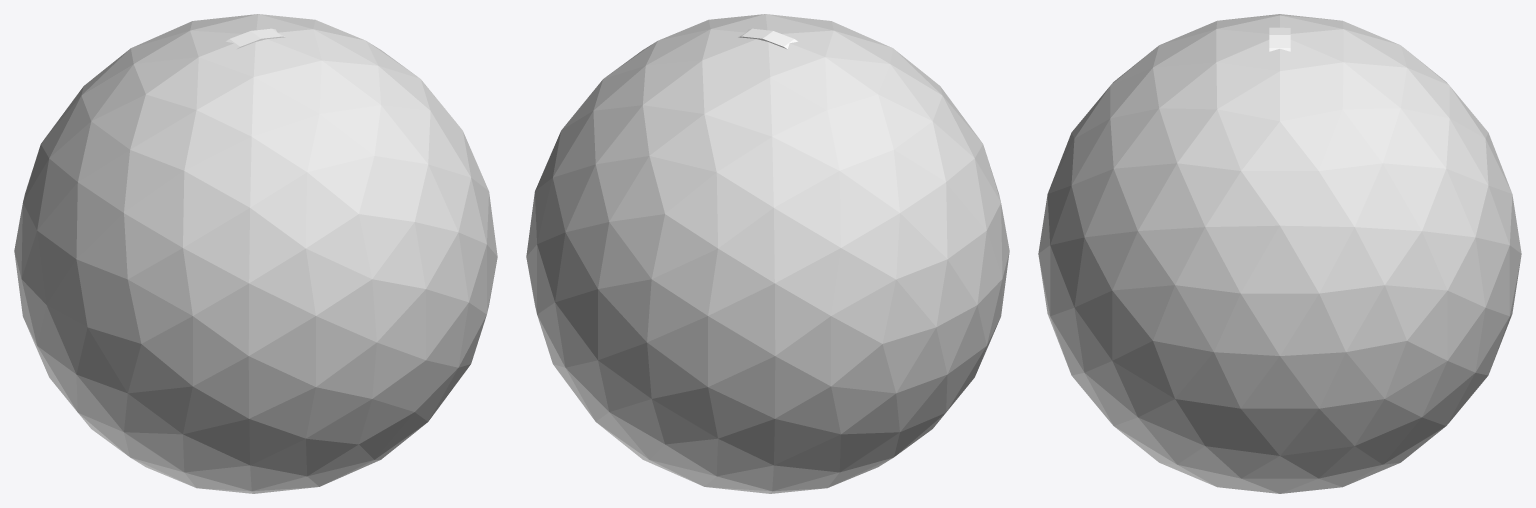
File: flux-capsule.glb
3 views of the same model, side by side, from view 1: azimuth 30°, elevation 25°; view 2: azimuth 150°, elevation 25°; view 3: azimuth 270°, elevation 25° (orthographic).
Parts seen in each view (by area): view 1: world; view 2: world; view 3: world.
Boxes of the visible parts, x1,y1,x2,y2 form: world: (14,14,497,493); world: (526,14,1009,493); world: (1038,14,1521,493).
Bounding box in the file's own units: 2 × 2 × 2.
1 material, 1 textured.
